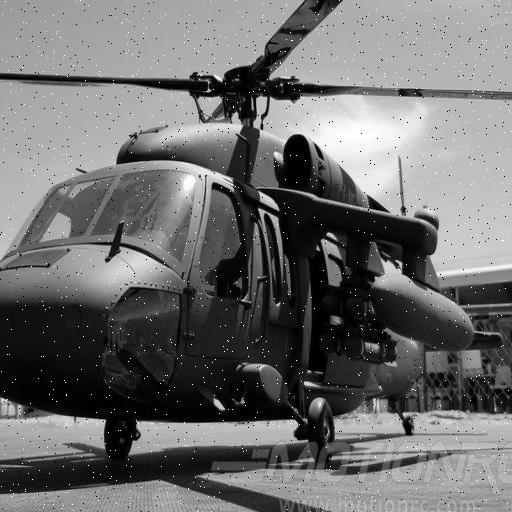helicopter: (1, 1, 512, 464)
